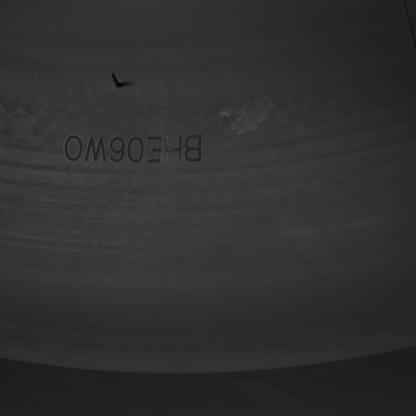ocr: (62, 132, 202, 165)
